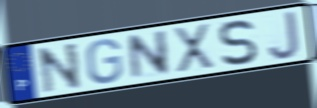G: (85, 37, 125, 85)
J: (266, 9, 302, 62)
N: (35, 41, 84, 95), (127, 28, 172, 83)
S: (218, 18, 260, 68)
X: (171, 21, 217, 74)
